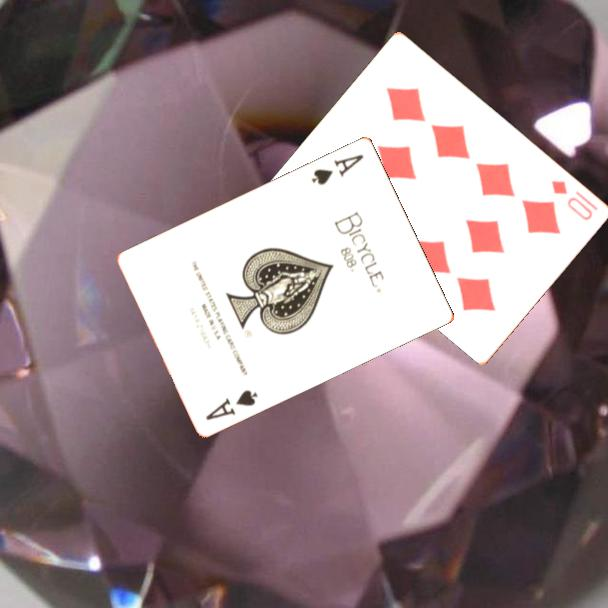d10: (548, 177, 596, 223)
s01: (308, 150, 367, 187), (202, 386, 261, 423)
